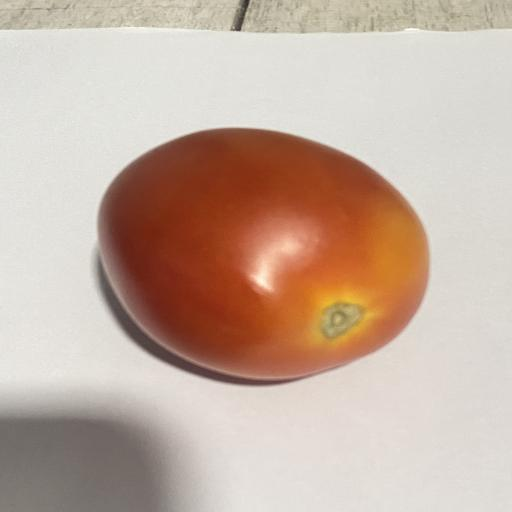ripe: (99, 128, 429, 380)
